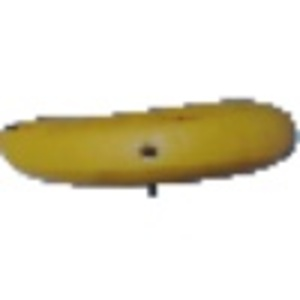banana: (1, 97, 297, 187)
